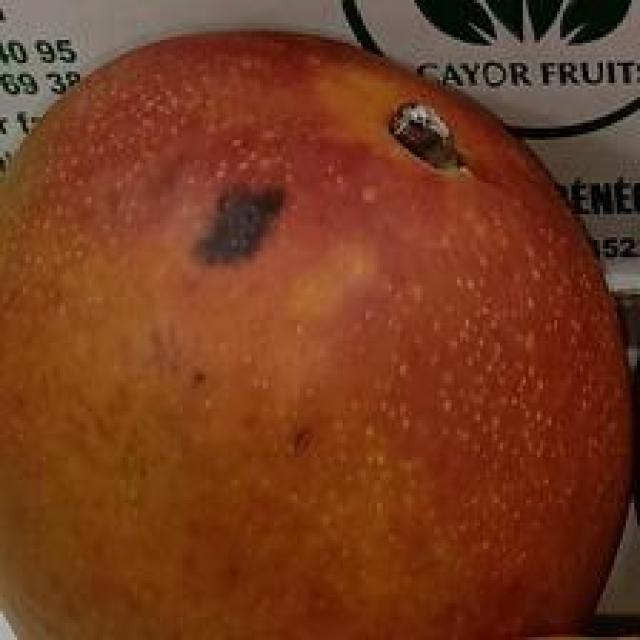Mango: (0, 37, 639, 640)
